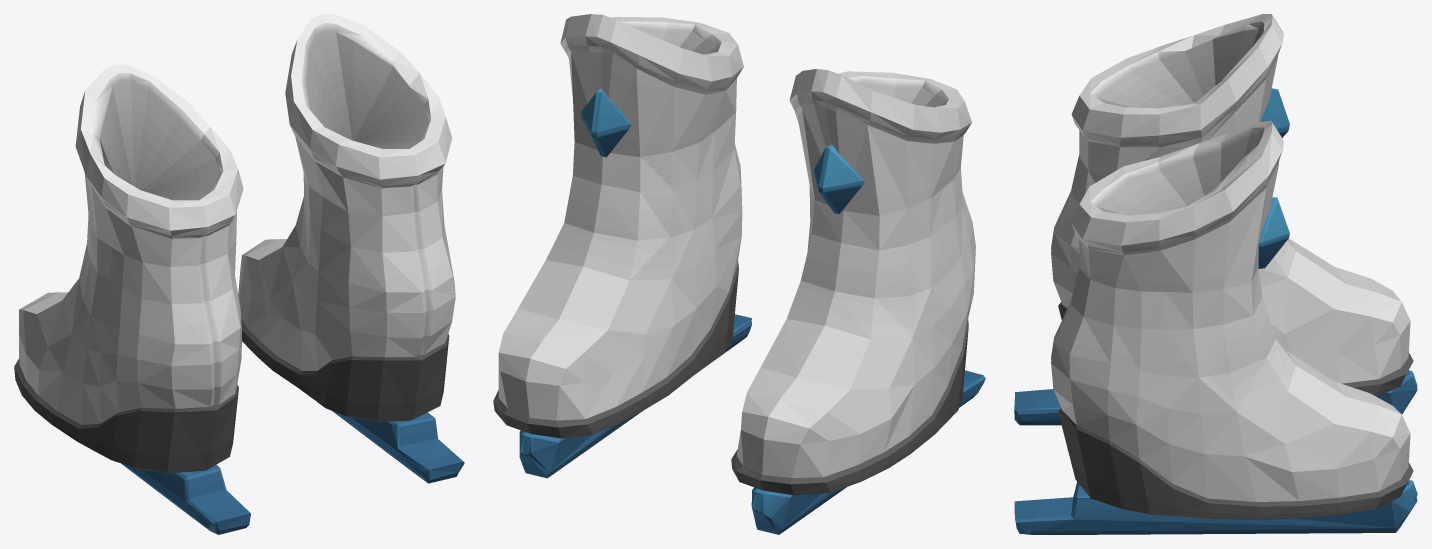
The model's file is CharSkyKid_Feet_TriumphIceSkates.glb.
3 views of the same model, side by side, from view 1: azimuth 30°, elevation 25°; view 2: azimuth 150°, elevation 25°; view 3: azimuth 270°, elevation 25° (orthographic). The views are drawn at different scales.
Visible parts, largest first — view 1: CharSkyKid_Feet_TriumphIceSkates; view 2: CharSkyKid_Feet_TriumphIceSkates; view 3: CharSkyKid_Feet_TriumphIceSkates.
Boxes of the visible parts, left/top/right/bottom form: CharSkyKid_Feet_TriumphIceSkates: left=14, top=14, right=464, bottom=534; CharSkyKid_Feet_TriumphIceSkates: left=493, top=14, right=985, bottom=534; CharSkyKid_Feet_TriumphIceSkates: left=1014, top=14, right=1417, bottom=534.
Size of the model in its own units: 2.87 by 3.02 by 2.75.
Materials: 1 (1 with a texture image).
